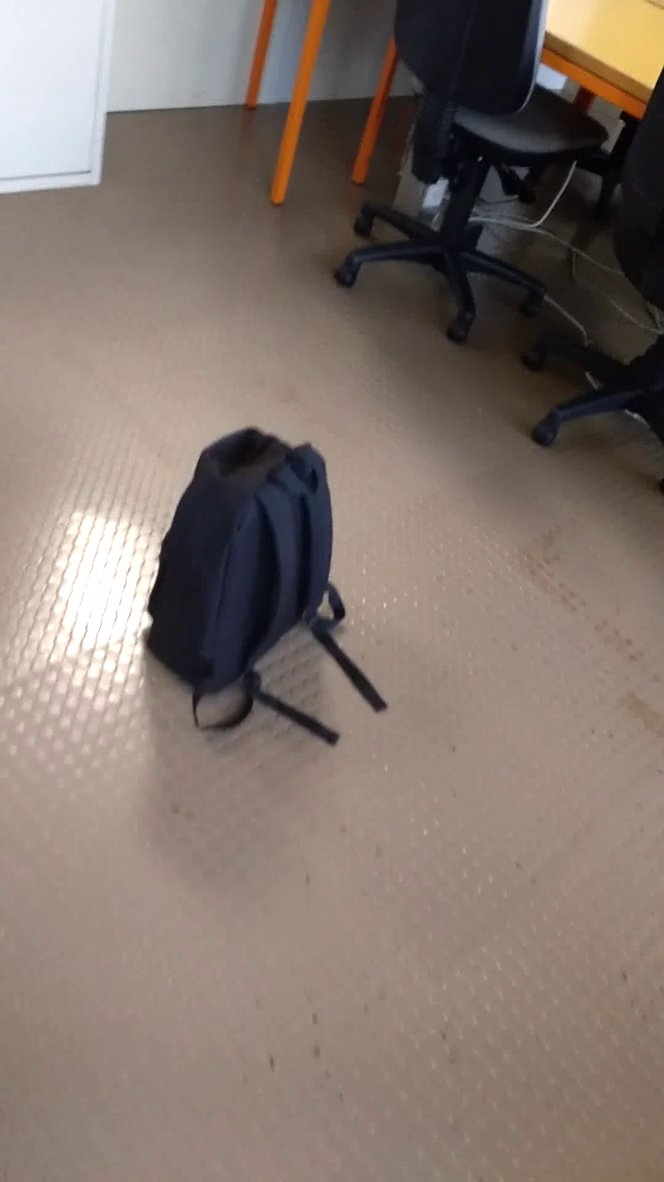bag: (120, 412, 429, 761)
